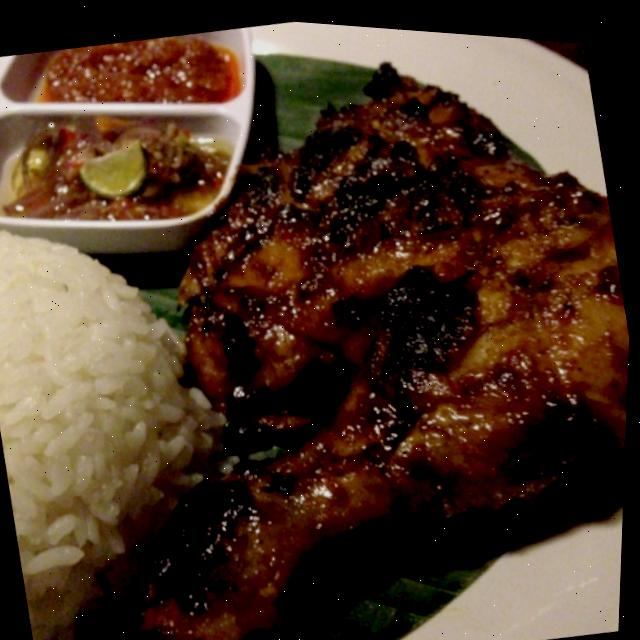鸡肉料理 含炸鸡: (11, 2, 640, 640)
